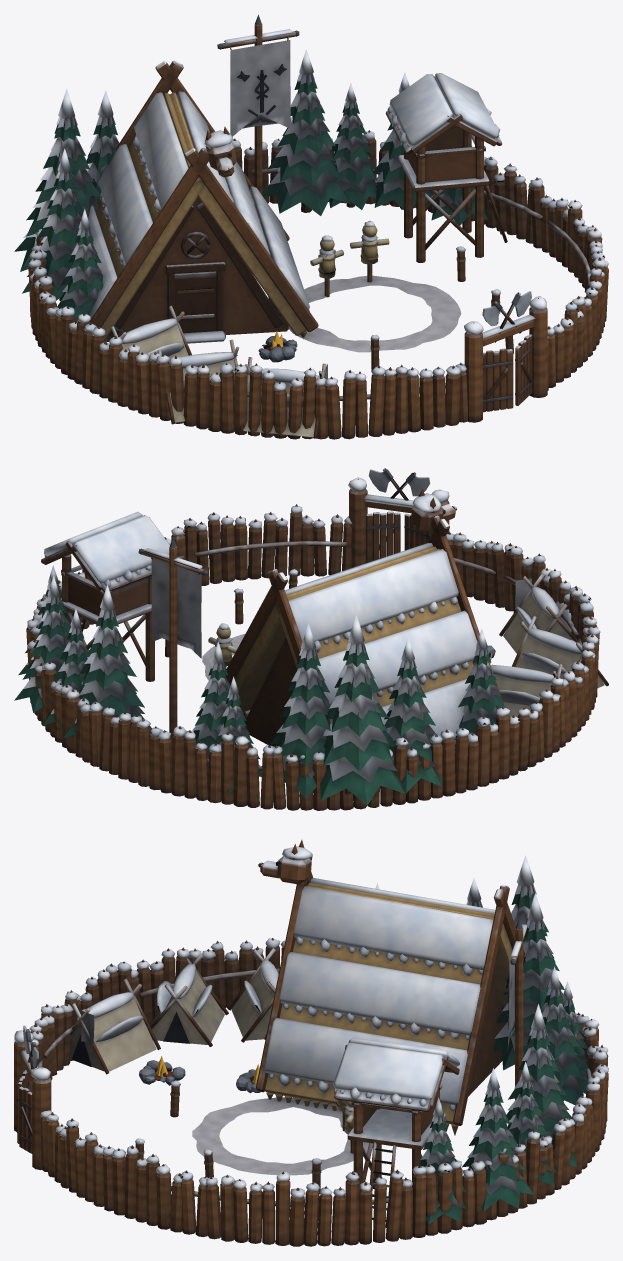
File: VikingCamp_Buildings.fbx
3 views of the same model, one above another, from view 1: azimuth 30°, elevation 25°; view 2: azimuth 150°, elevation 25°; view 3: azimuth 270°, elevation 25° (orthographic). The views are drawn at different scales.
Visible parts, largest first — view 1: S04_LonghouseRoof, S06_Watchtower, S03_Longhouse, S01_Palisade_08, S01_Palisade_07, S02_Gate, S10_Pine_4, S07_Banner, S01_Palisade_09, S08_TrainingRing, S01_Palisade_00, S01_Palisade_06 (+16 smaller); view 2: S04_LonghouseRoof, S01_Palisade_04, S06_Watchtower, S01_Palisade_00, S10_Pine_8, S01_Palisade_06, S01_Palisade_05, S07_Banner, S02_Gate, S01_Palisade_03, S10_Pine_2, S10_Pine_4 (+16 smaller); view 3: S04_LonghouseRoof, S06_Watchtower, S01_Palisade_01, S01_Palisade_02, S01_Palisade_00, S01_Palisade_03, S01_Palisade_07, S05_Tent_2, S05_Tent_1, S08_TrainingRing, S10_Pine_5, S01_Palisade_08 (+13 smaller).
Boxes of the visible parts, box(x1,y1,x2,y2) form: S04_LonghouseRoof: box(87, 60, 318, 339); S06_Watchtower: box(385, 73, 507, 262); S03_Longhouse: box(107, 197, 288, 343); S01_Palisade_08: box(219, 363, 396, 439); S01_Palisade_07: box(82, 322, 220, 431); S02_Gate: box(464, 291, 547, 422); S10_Pine_4: box(262, 49, 350, 215); S07_Banner: box(217, 14, 299, 195); S01_Palisade_09: box(395, 362, 467, 433); S08_TrainingRing: box(288, 275, 461, 352); S01_Palisade_00: box(547, 257, 606, 390); S01_Palisade_06: box(28, 250, 90, 384); S04_LonghouseRoof: box(225, 489, 504, 794); S01_Palisade_04: box(118, 712, 274, 809); S06_Watchtower: box(41, 511, 169, 681); S01_Palisade_00: box(183, 504, 352, 585); S10_Pine_8: box(320, 614, 404, 805); S01_Palisade_06: box(440, 676, 565, 796); S01_Palisade_05: box(273, 734, 442, 810); S07_Banner: box(138, 537, 208, 747); S02_Gate: box(348, 468, 449, 567); S01_Palisade_03: box(33, 649, 119, 774); S10_Pine_2: box(261, 623, 331, 798); S10_Pine_4: box(63, 585, 151, 737); S04_LonghouseRoof: box(255, 840, 524, 1135); S06_Watchtower: box(333, 1037, 459, 1227); S01_Palisade_01: box(156, 1164, 332, 1246); S01_Palisade_02: box(331, 1159, 496, 1245); S01_Palisade_00: box(40, 1110, 159, 1225); S01_Palisade_03: box(497, 1096, 595, 1216); S01_Palisade_07: box(131, 938, 285, 1025); S05_Tent_2: box(70, 978, 160, 1074); S05_Tent_1: box(150, 953, 228, 1046); S08_TrainingRing: box(192, 1097, 368, 1175); S10_Pine_5: box(462, 1068, 534, 1211); S01_Palisade_08: box(29, 961, 131, 1079).
Size of the model in its own units: 18.35 by 7.89 by 18.47.
1 material, 1 textured.
